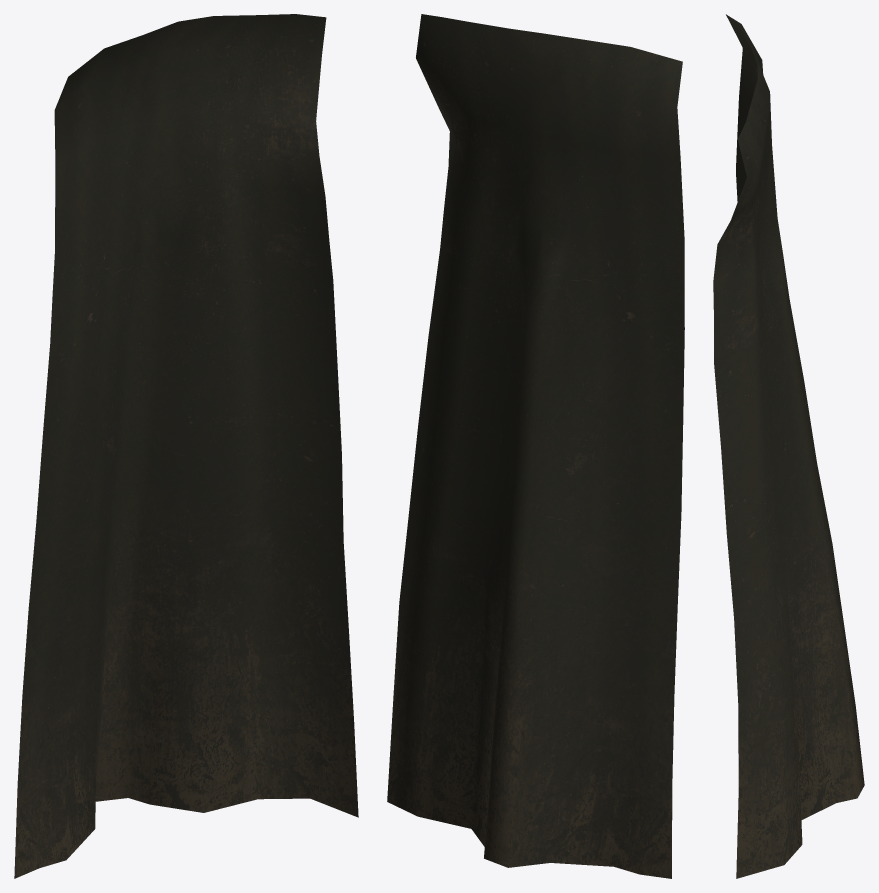
File: clo_ithilien_cloak.fbx
3 views of the same model, side by side, from view 1: azimuth 30°, elevation 25°; view 2: azimuth 150°, elevation 25°; view 3: azimuth 270°, elevation 25° (orthographic). The views are drawn at different scales.
Visible parts, largest first — view 1: clo_ithilien_cloak; view 2: clo_ithilien_cloak; view 3: clo_ithilien_cloak.
Part boxes in pixels (x1=…): clo_ithilien_cloak: x1=14, y1=14, x2=358, y2=878; clo_ithilien_cloak: x1=387, y1=14, x2=684, y2=878; clo_ithilien_cloak: x1=713, y1=14, x2=864, y2=878.
Bounding box in the file's own units: 0.5331 × 0.2448 × 1.33.
1 material, 1 textured.
